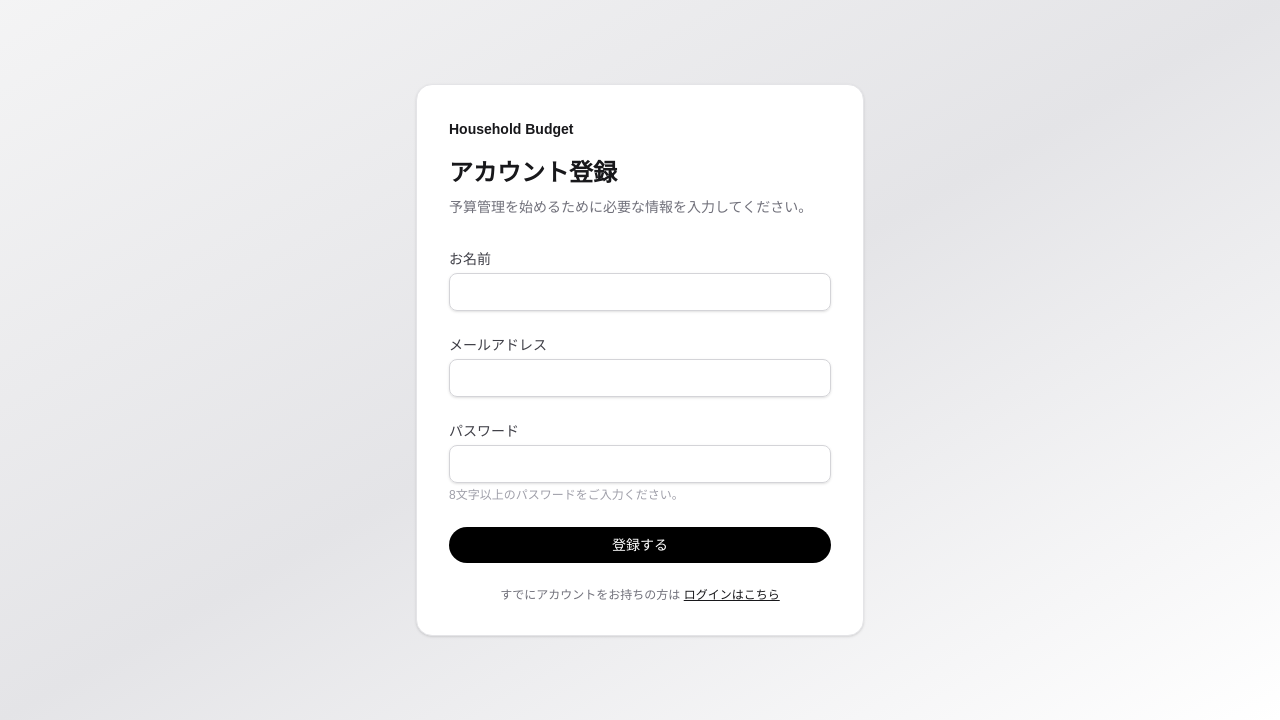
Test: RegisterPage › shows conflict error when email is already registered
In the field labelled "お名前": x=640, y=292 [449,273,831,311], type "山田 太郎"
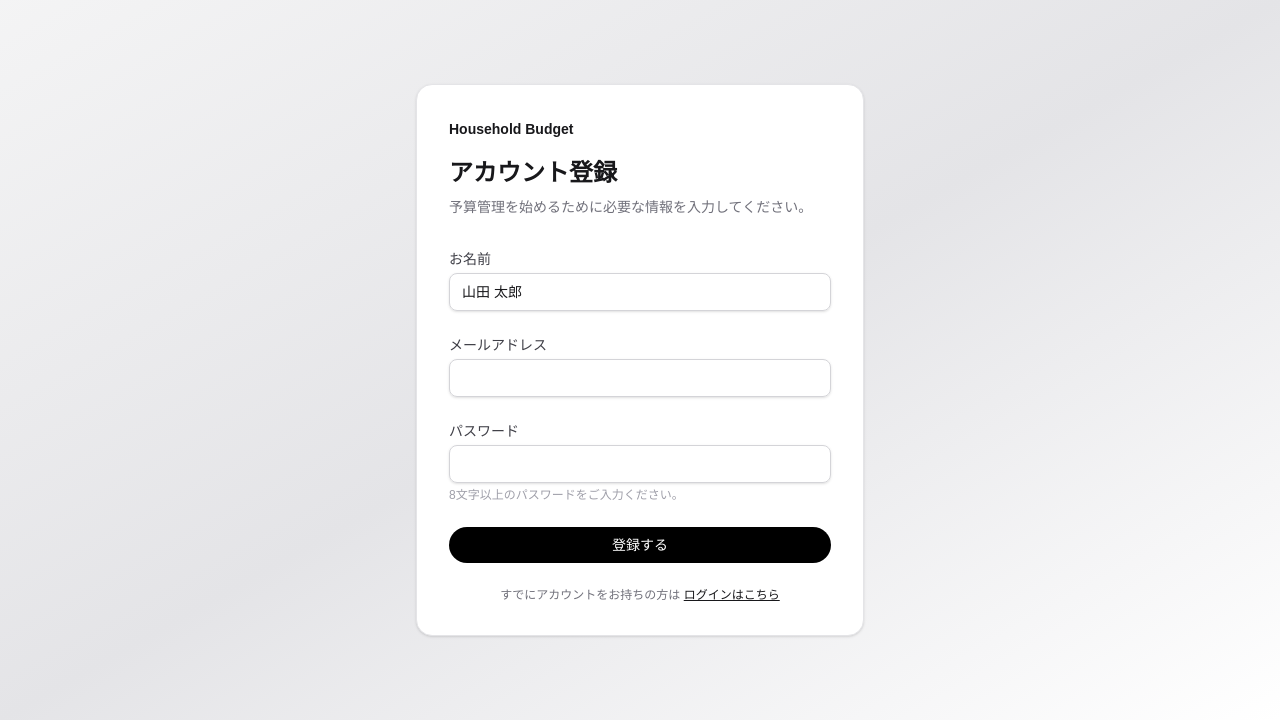
In the field labelled "メールアドレス": x=640, y=378 [449,359,831,397], type "duplicate@example.com"
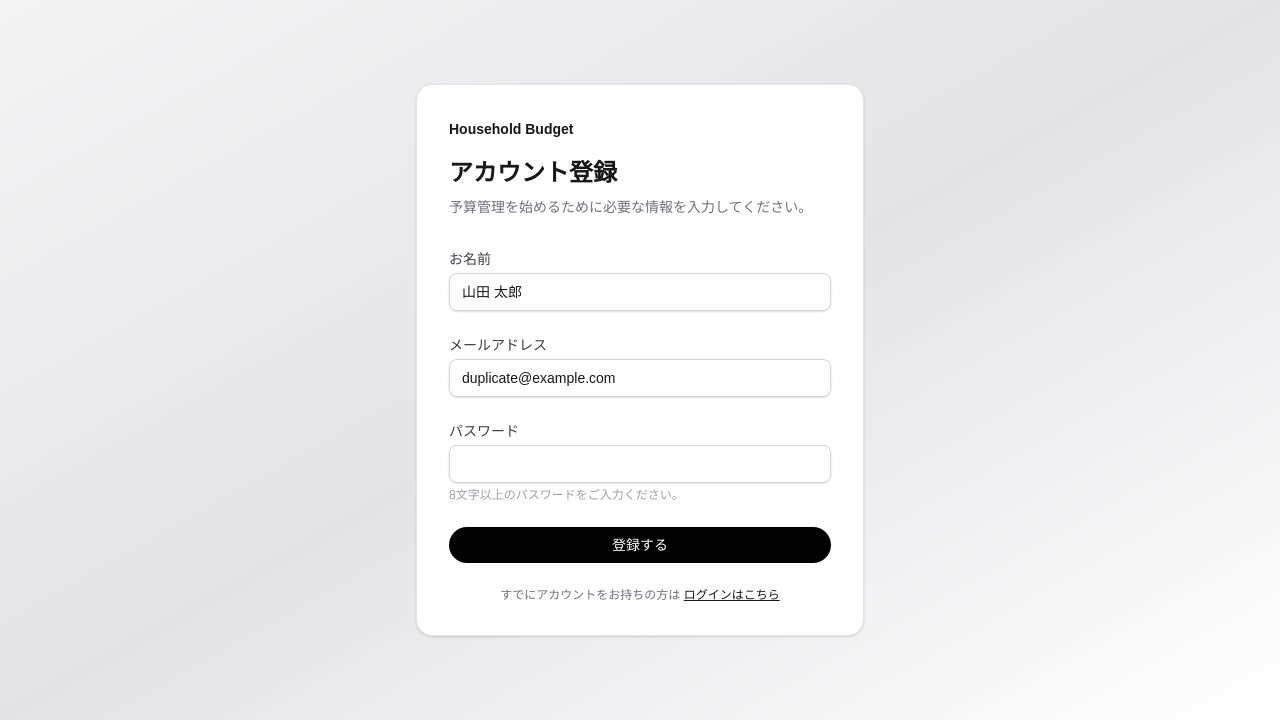
In the password field labelled "パスワード": x=640, y=464 [449,445,831,483], type "passw0rd!"
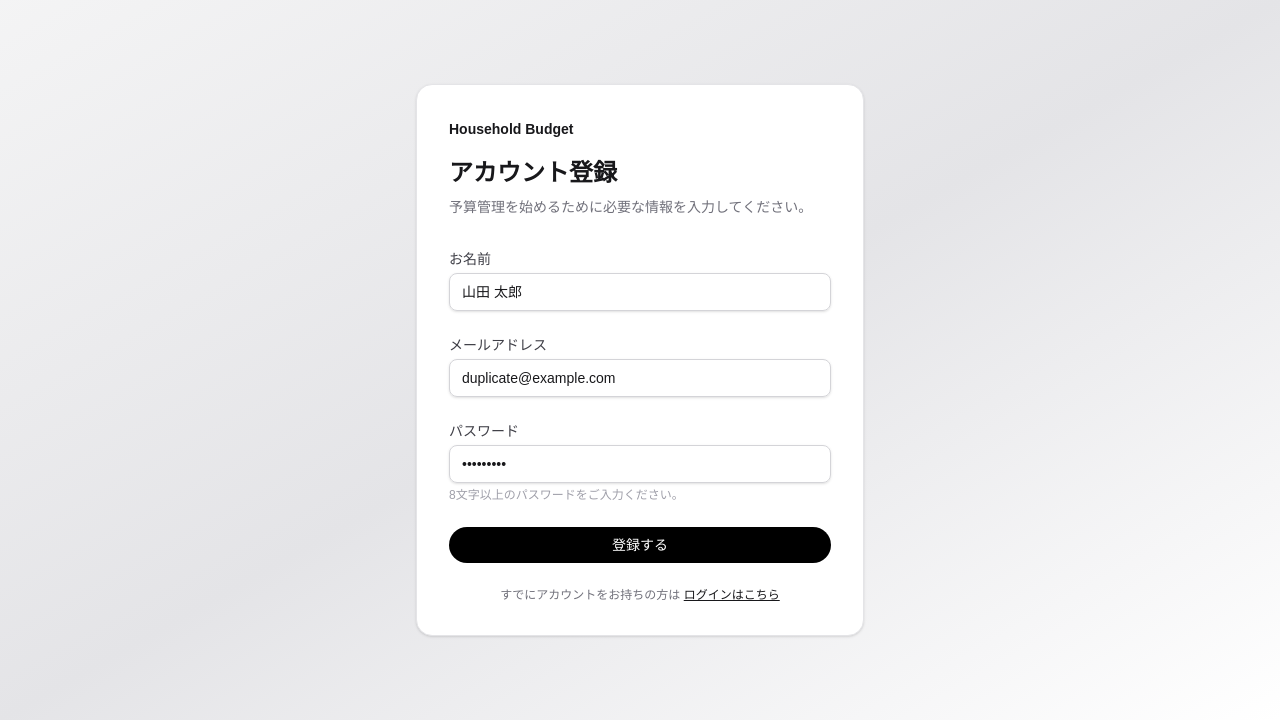
Submit the form "登録する", box [449,249,831,563]
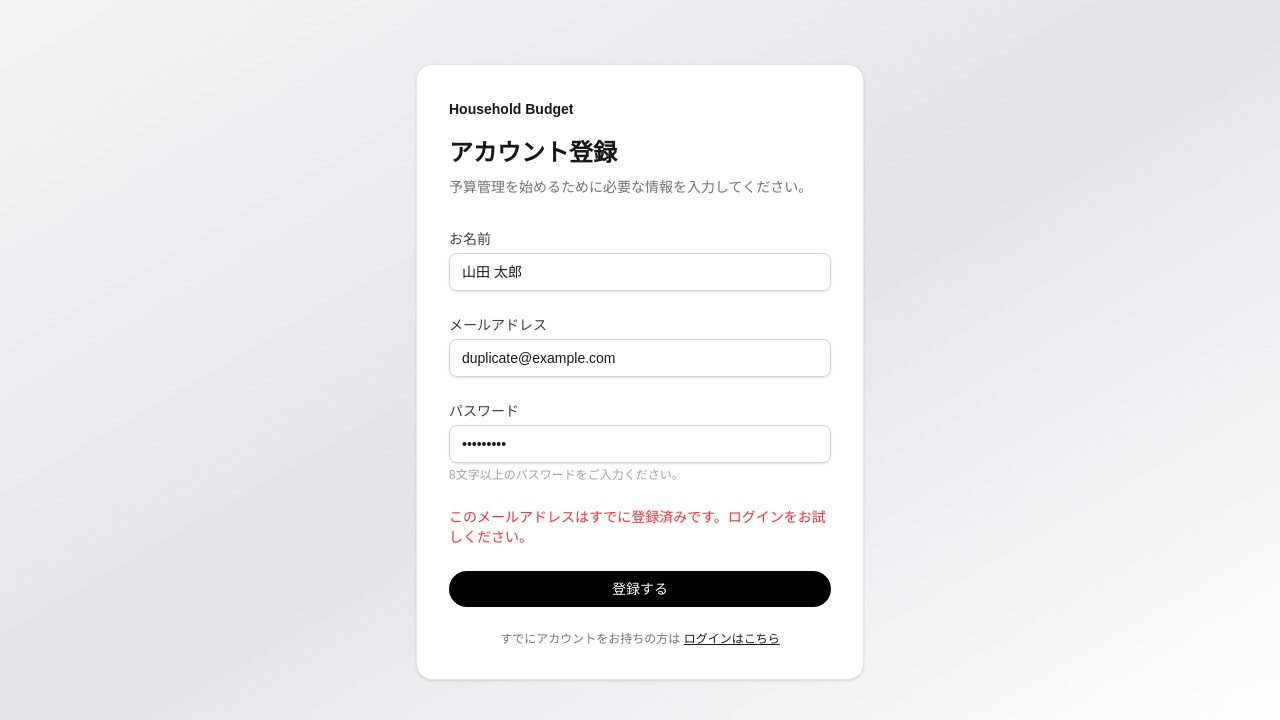
Expected: the text "このメールアドレスはすでに登録済みです。ログインをお試しください。" is shown, [449,507,831,547]
